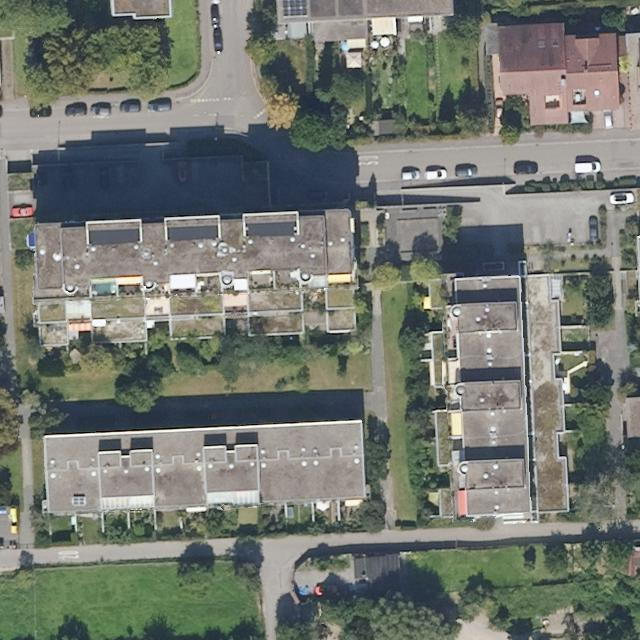PV: (282, 1, 310, 20)
